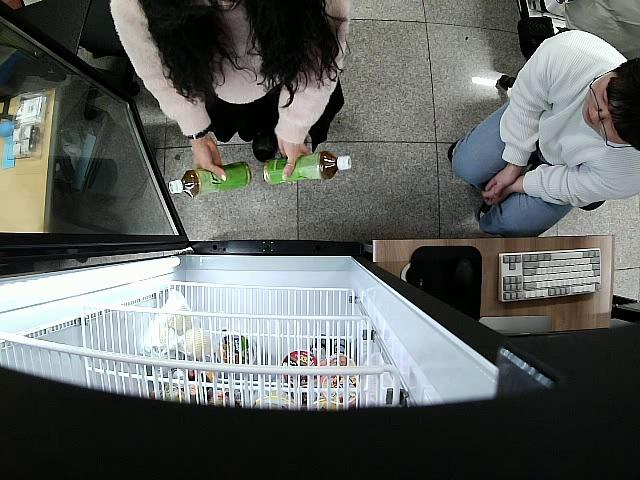00_hand: (191, 145, 228, 183), (277, 141, 309, 182)
19_17cha: (265, 152, 353, 187), (168, 160, 251, 195)
